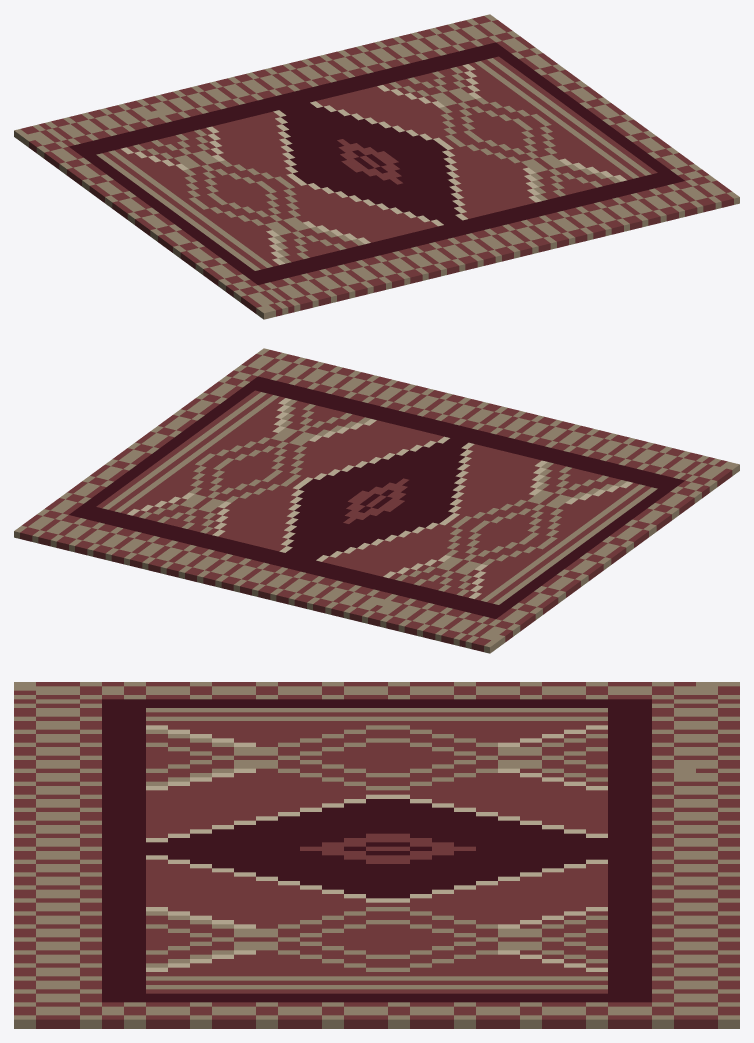
File: tapis_chambre2.fbx
3 renders of one model, top to bottom at view 1: azimuth 30°, elevation 25°; view 2: azimuth 150°, elevation 25°; view 3: azimuth 270°, elevation 25°, orthographic. The views are drawn at different scales.
Parts seen in each view (by area): view 1: Tapis chambre 2; view 2: Tapis chambre 2; view 3: Tapis chambre 2.
Boxes of the visible parts, x1,y1,x2,y2 form: Tapis chambre 2: (14,14,739,319); Tapis chambre 2: (14,348,739,653); Tapis chambre 2: (14,682,739,1028).
Size of the model in its own units: 78 by 1 by 70.9.
